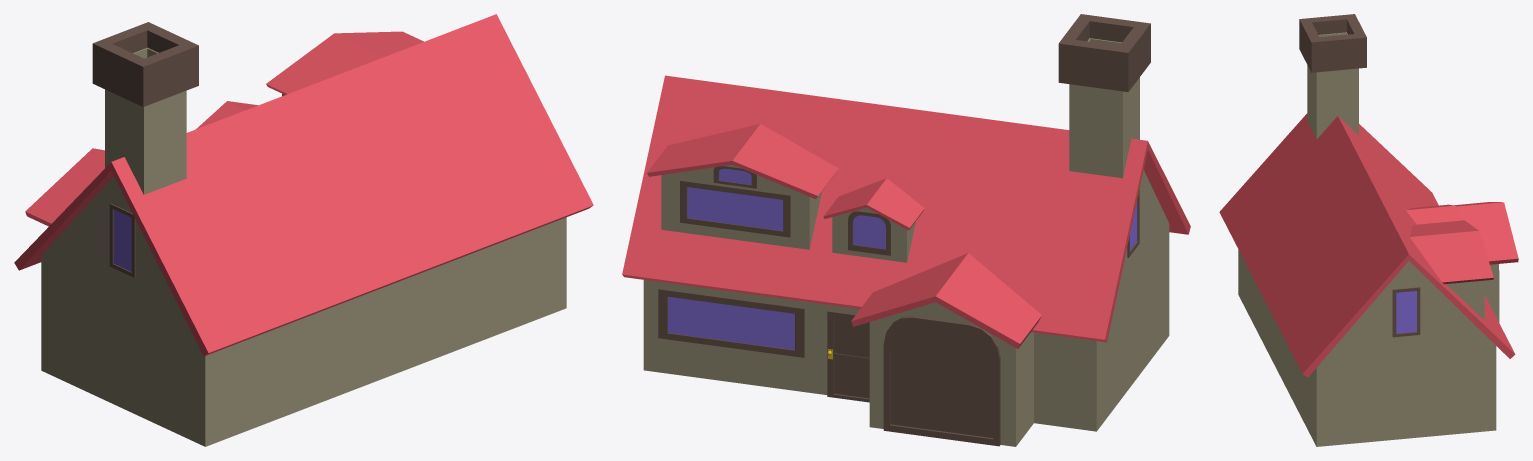
File: CALLE3_CASA1_028.fbx
3 views of the same model, side by side, from view 1: azimuth 30°, elevation 25°; view 2: azimuth 150°, elevation 25°; view 3: azimuth 270°, elevation 25° (orthographic). The views are drawn at different scales.
Visible parts, largest first — view 1: CASA1.028; view 2: CASA1.028; view 3: CASA1.028.
Boxes of the visible parts, bbox=[...] form: CASA1.028: bbox=[14, 14, 593, 446]; CASA1.028: bbox=[622, 14, 1190, 446]; CASA1.028: bbox=[1219, 14, 1518, 446].
Bounding box in the file's own units: 1066 × 734 × 743.
